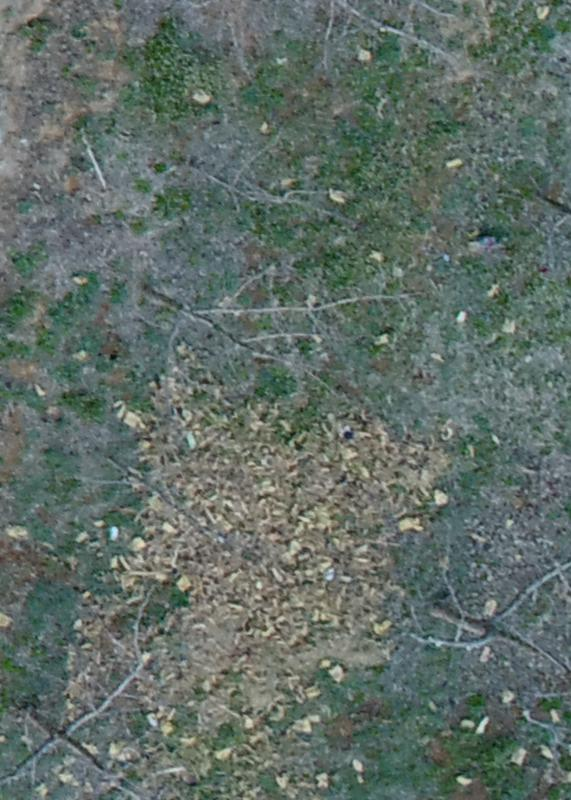apple: (120, 266, 413, 404), (10, 625, 203, 790), (370, 542, 561, 697)
